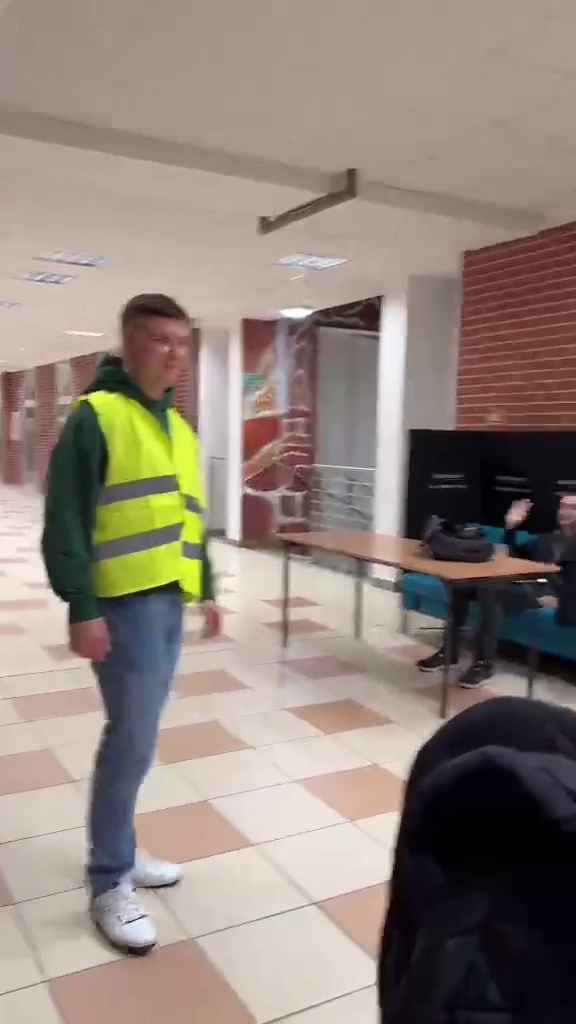vest: (38, 290, 223, 955)
